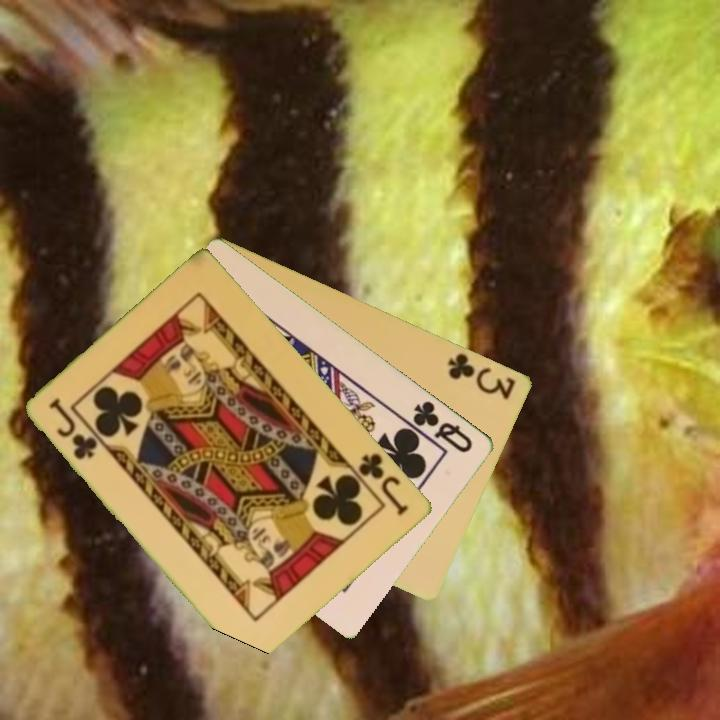3c: (444, 349, 519, 402)
Jc: (347, 449, 412, 519), (46, 394, 101, 463)
Qc: (409, 397, 477, 456)
